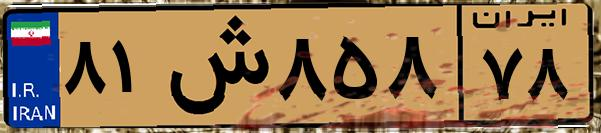1: (110, 28, 158, 98)
5: (330, 28, 385, 110)
7: (475, 38, 525, 113)
8: (270, 28, 330, 110), (385, 28, 445, 110), (57, 26, 110, 100), (525, 38, 570, 115)
ش: (158, 12, 270, 120)
